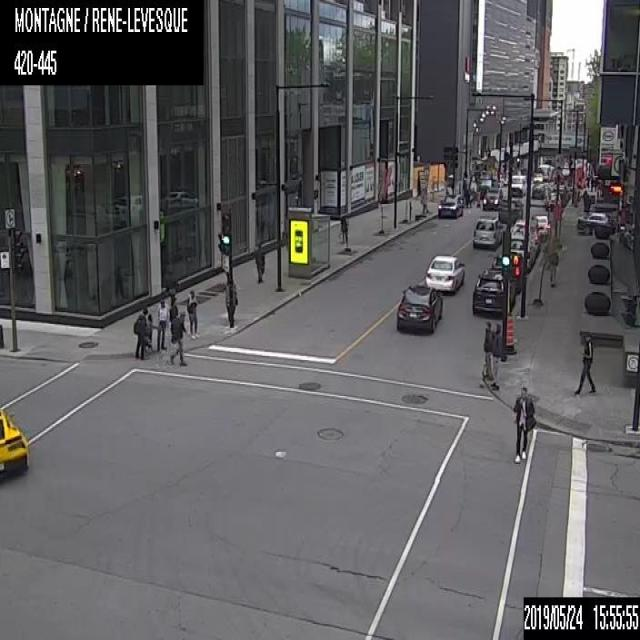bus: (537, 163, 551, 181)
construction: (504, 313, 514, 356)
pedestrian: (512, 384, 534, 464), (571, 329, 594, 396), (168, 307, 185, 368), (134, 306, 150, 356), (491, 320, 502, 391), (480, 321, 490, 387), (224, 273, 237, 323), (156, 297, 168, 351), (187, 286, 198, 338), (144, 313, 157, 352), (253, 241, 265, 283), (546, 250, 558, 290), (339, 213, 347, 247)
vehicle: (394, 284, 444, 332), (471, 267, 517, 314), (0, 406, 26, 477), (424, 253, 465, 293), (492, 248, 526, 293), (509, 216, 541, 255), (576, 209, 616, 235), (506, 237, 534, 270), (472, 216, 500, 248), (436, 192, 466, 217), (499, 197, 523, 222), (531, 213, 550, 240), (480, 190, 502, 210), (530, 180, 550, 200), (509, 174, 527, 196), (551, 183, 568, 206), (544, 190, 562, 211), (532, 171, 543, 182)
